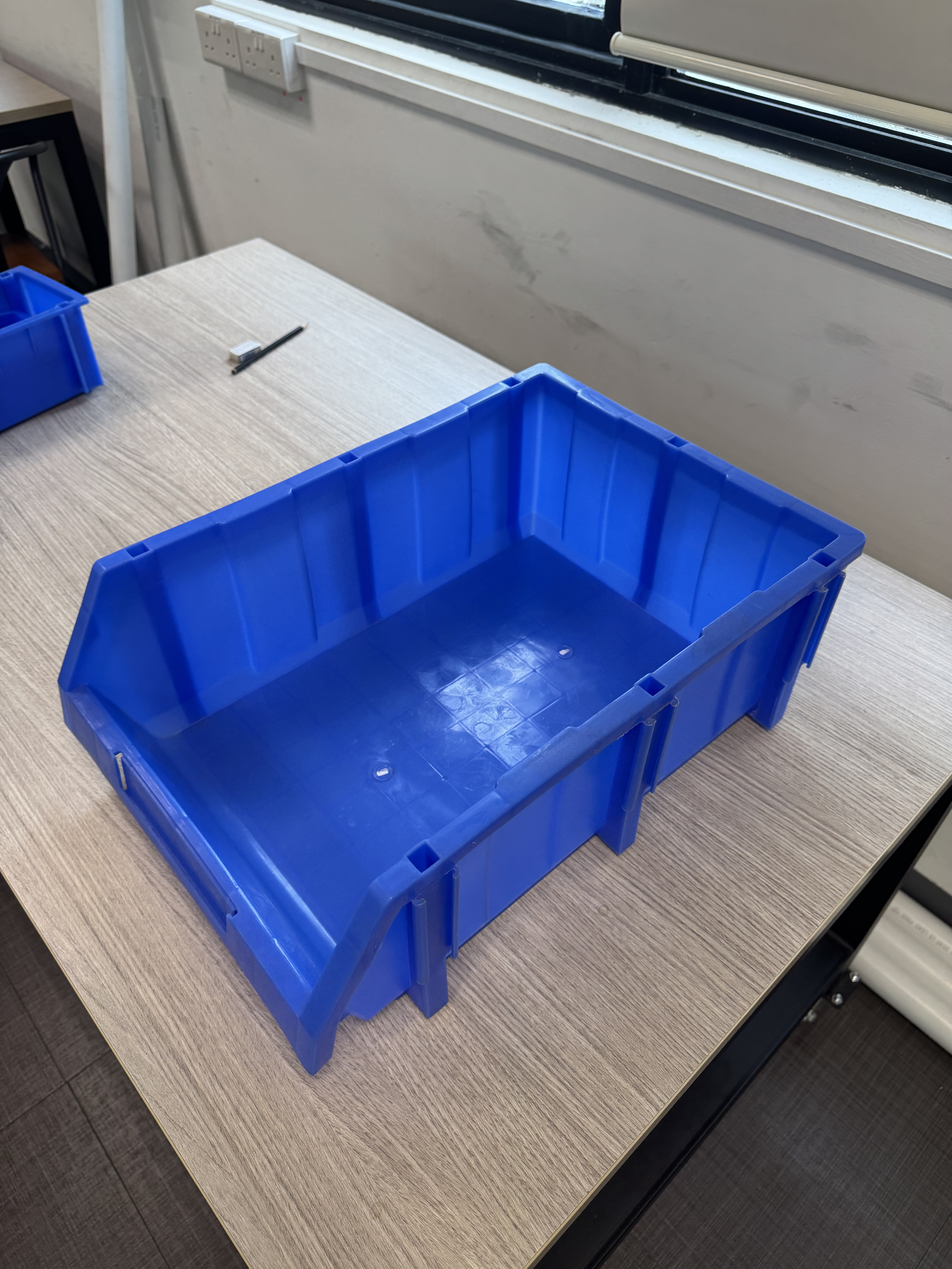Bin Boundary: (39, 218, 877, 1002)
